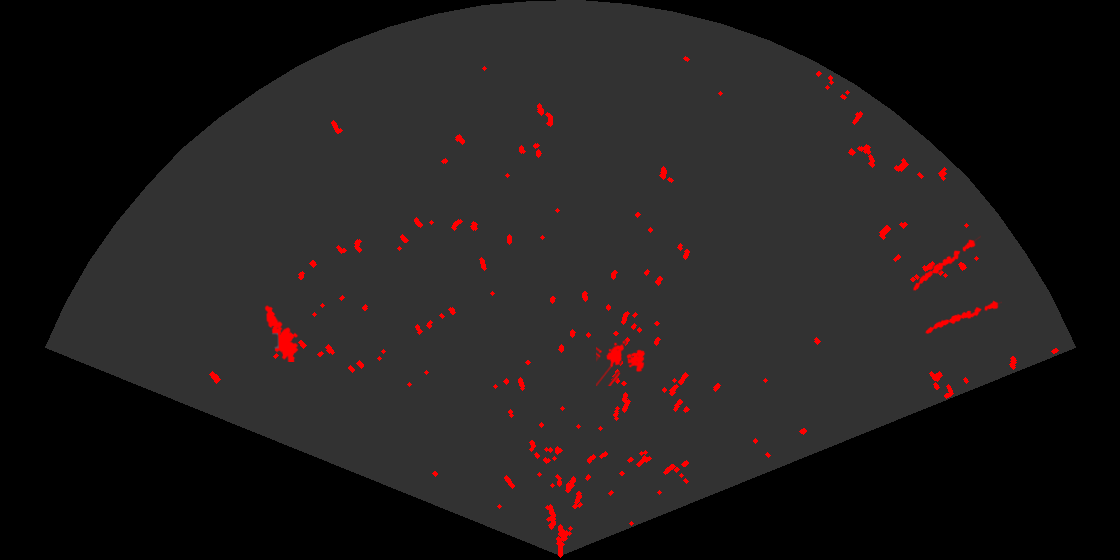cage: (596, 339, 647, 386)
chain: (911, 234, 981, 292), (923, 299, 1002, 335)
frogman: (263, 304, 300, 362)
